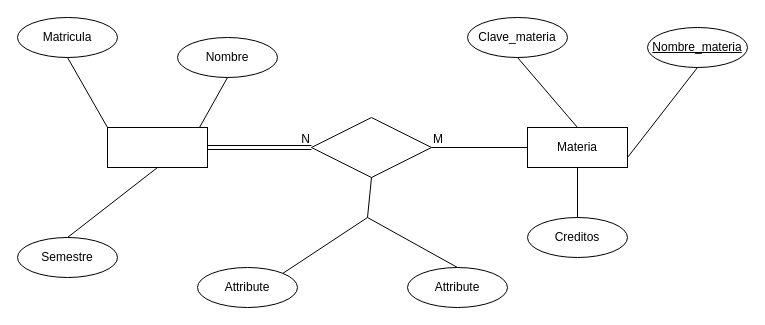
Some shapes in this 765 by 325 pixel diagram are drawn without their labels. The centre of each missing label's shape, as x and y in pixels:
Alumno: point (157, 147)
Inscribe: point (371, 147)
